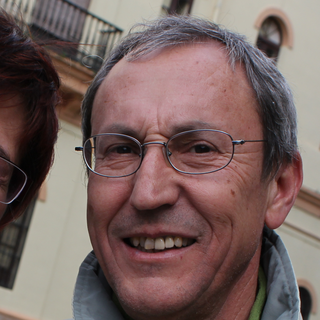eye: (175, 138, 222, 162), (100, 141, 139, 164)
